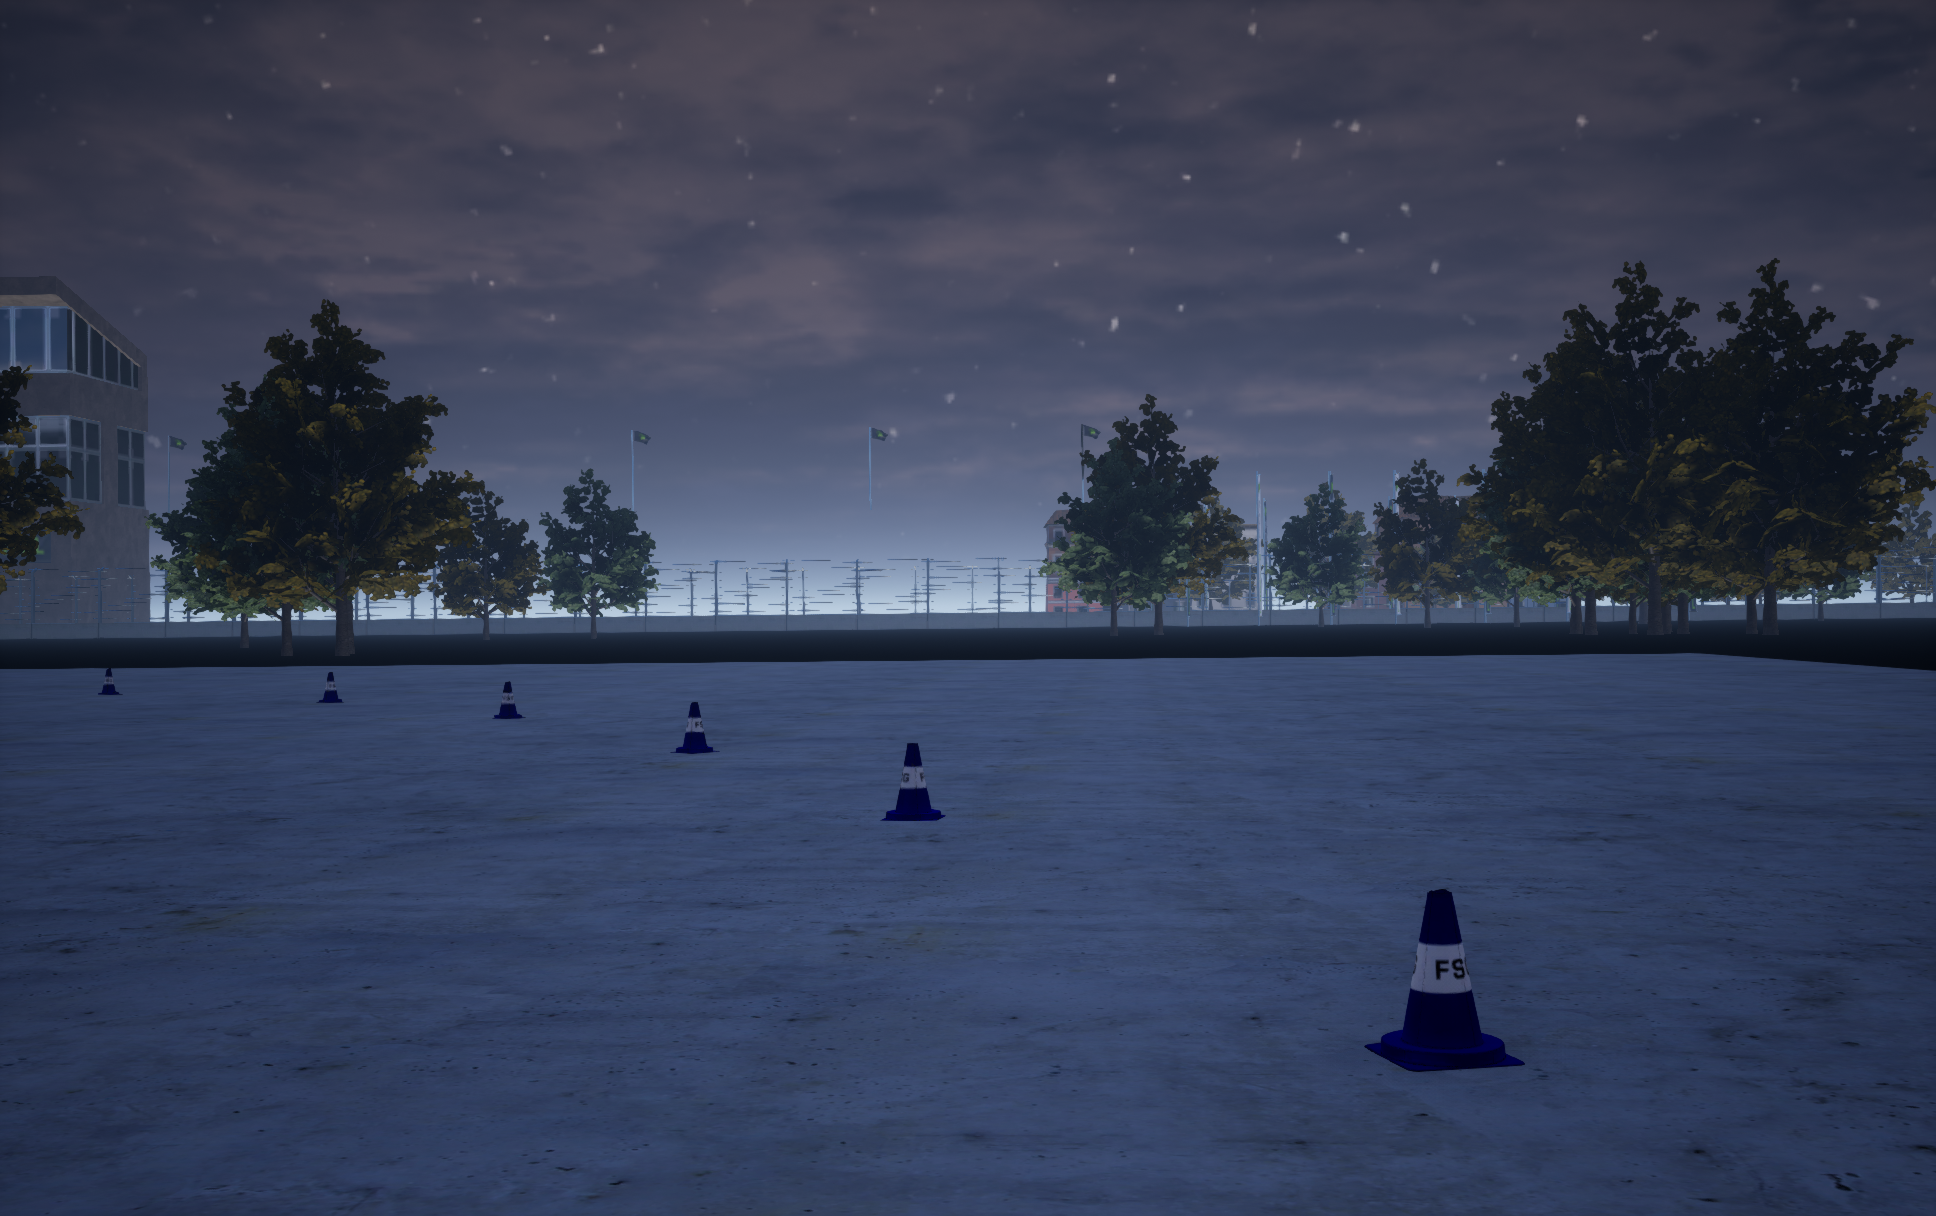yellow: (1364, 890, 1524, 1070), (880, 742, 946, 820), (670, 702, 719, 754), (492, 681, 525, 719), (317, 672, 343, 702), (98, 668, 122, 693)
